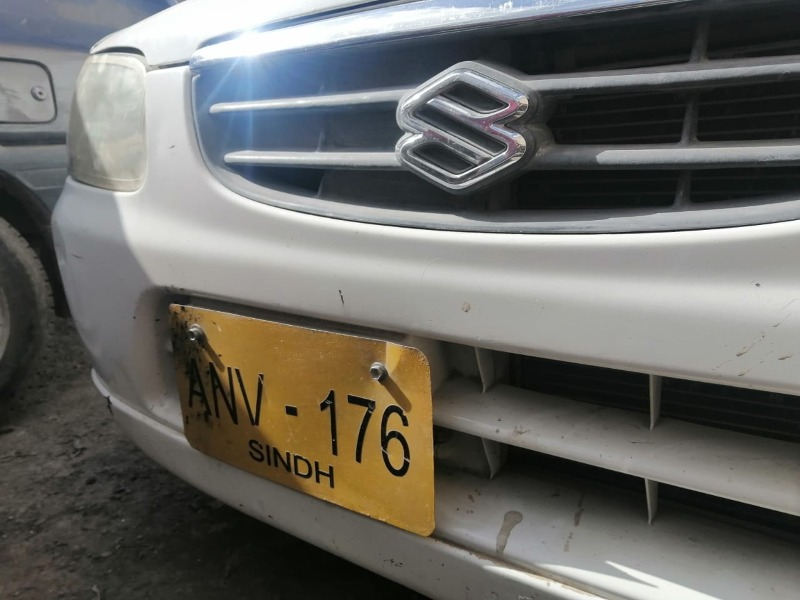License Plate: (163, 299, 436, 543)
